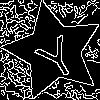Y: (29, 26, 82, 83)
